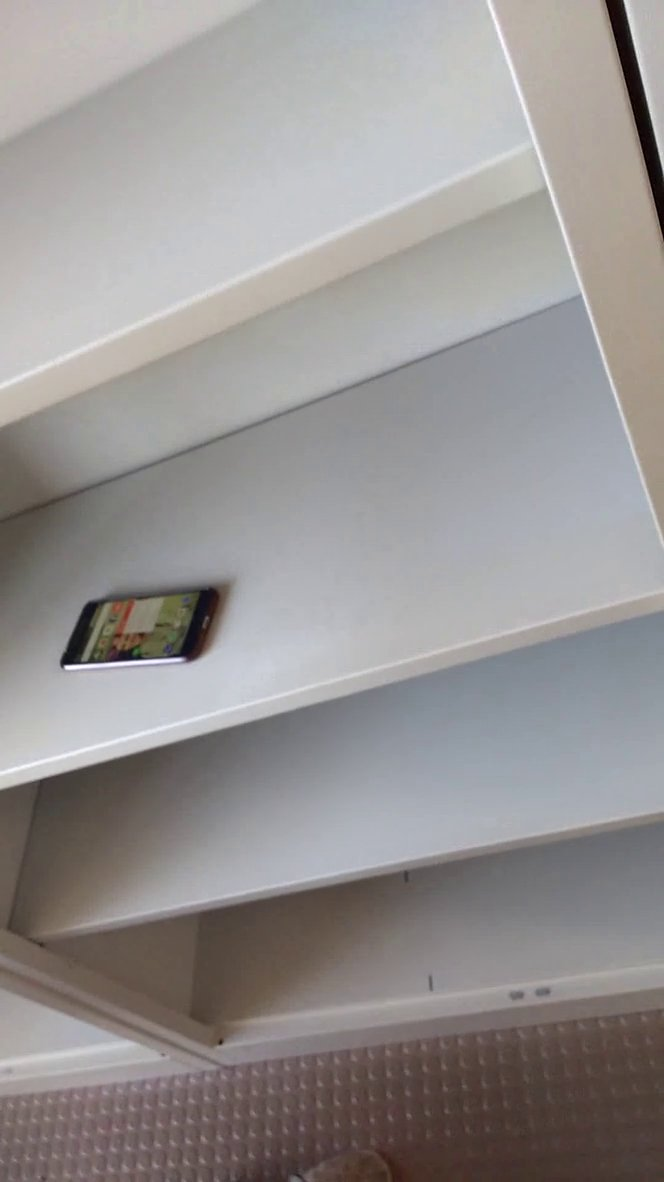phone: (55, 566, 229, 679)
